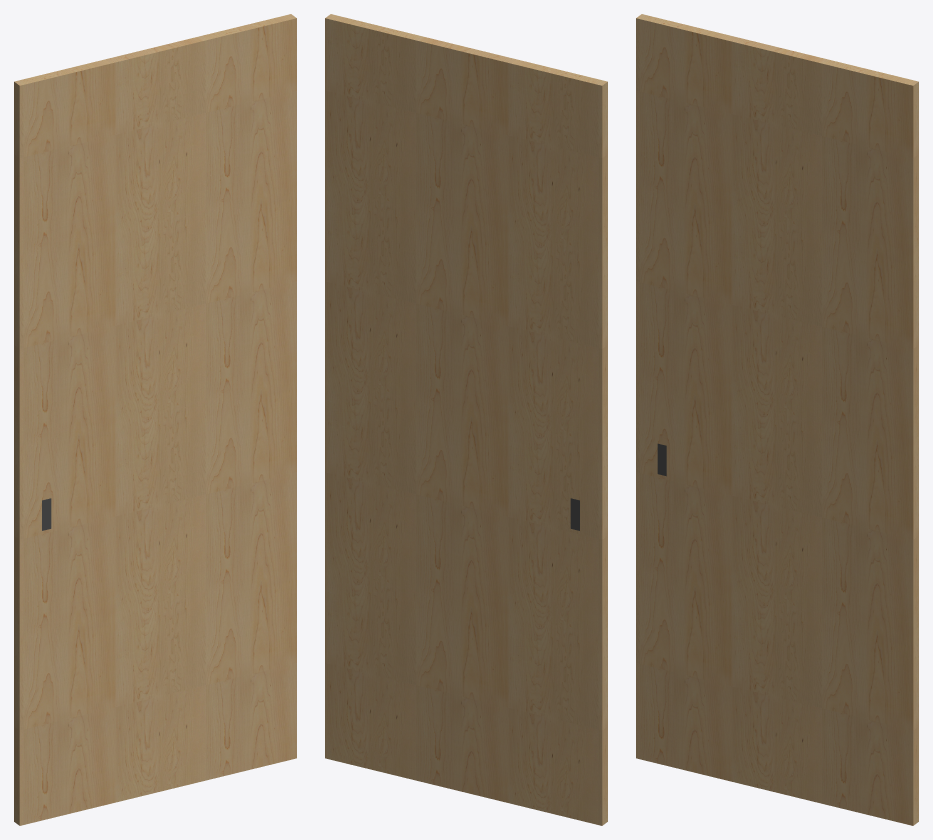
Rendered from SM_Door_12.fbx.
3 views of the same model, side by side, from view 1: azimuth 30°, elevation 25°; view 2: azimuth 150°, elevation 25°; view 3: azimuth 330°, elevation 25° (orthographic).
Visible parts, largest first — view 1: SM_Door_12; view 2: SM_Door_12; view 3: SM_Door_12.
Boxes of the visible parts, left/top/right/bottom form: SM_Door_12: left=14, top=14, right=296, bottom=825; SM_Door_12: left=325, top=14, right=607, bottom=825; SM_Door_12: left=636, top=14, right=918, bottom=825.
Size of the model in its own units: 0.76 by 1.94 by 0.0313.
Materials: 2 (1 with a texture image).
